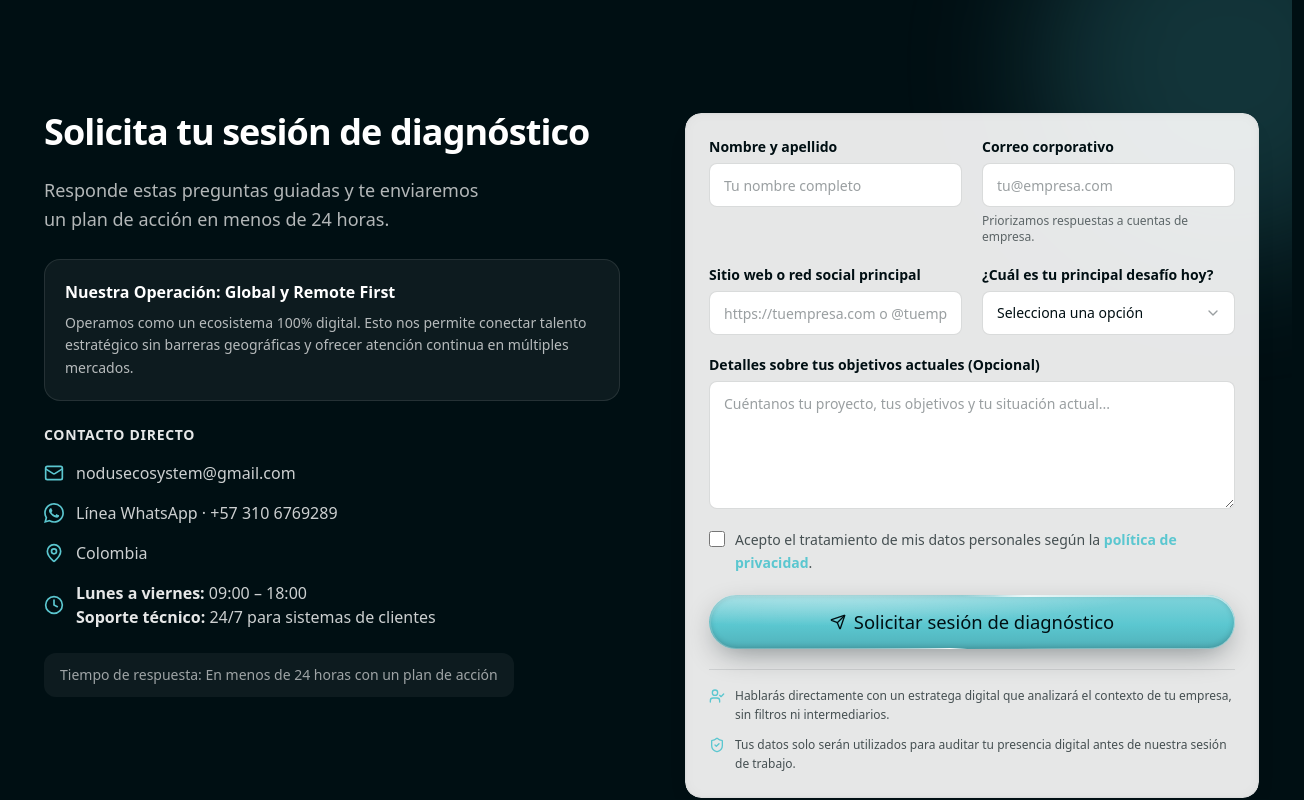
Test: ContactForm › sends the form through EmailJS and shows the success state
Step 1. Type "Ana Pérez" into the field labelled "Nombre y apellido" → (836, 185), box top-left (709, 163), bottom-right (962, 207)
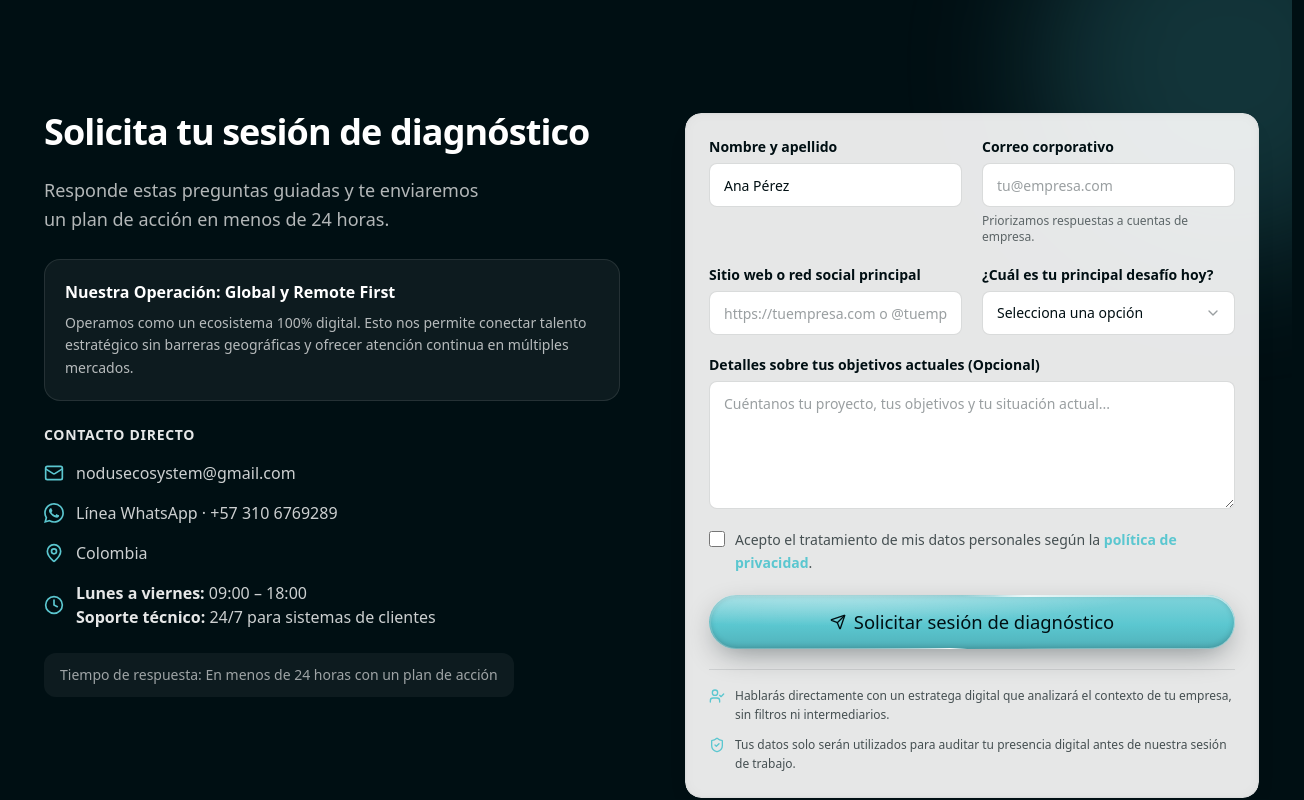
Step 2. Type "ana@example.com" into the field labelled "Correo corporativo" → (1108, 185), box top-left (982, 163), bottom-right (1235, 207)
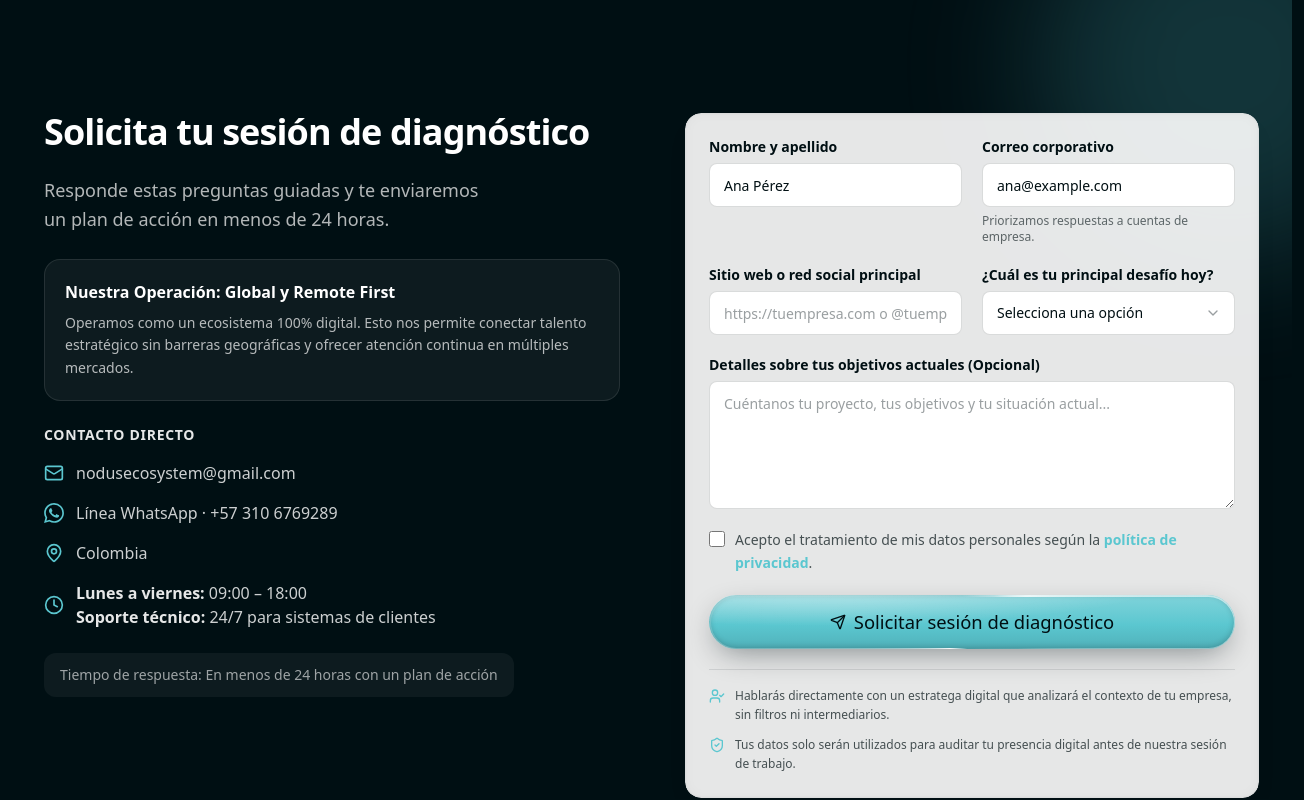
Step 3. Click the checkbox → (717, 539), box top-left (709, 531), bottom-right (725, 547)
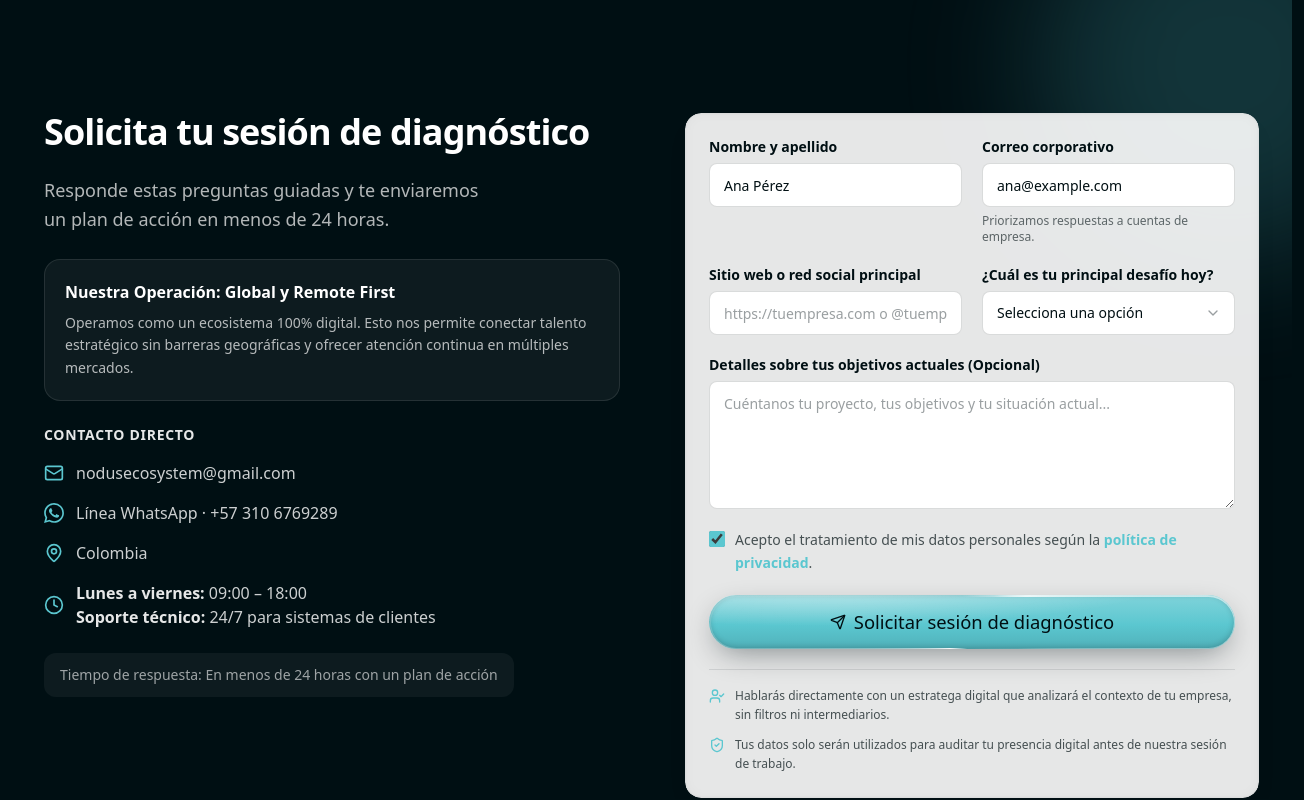
Step 4. Click the button "Solicitar sesión de diagnóstico" → (972, 622), box top-left (709, 594), bottom-right (1235, 649)
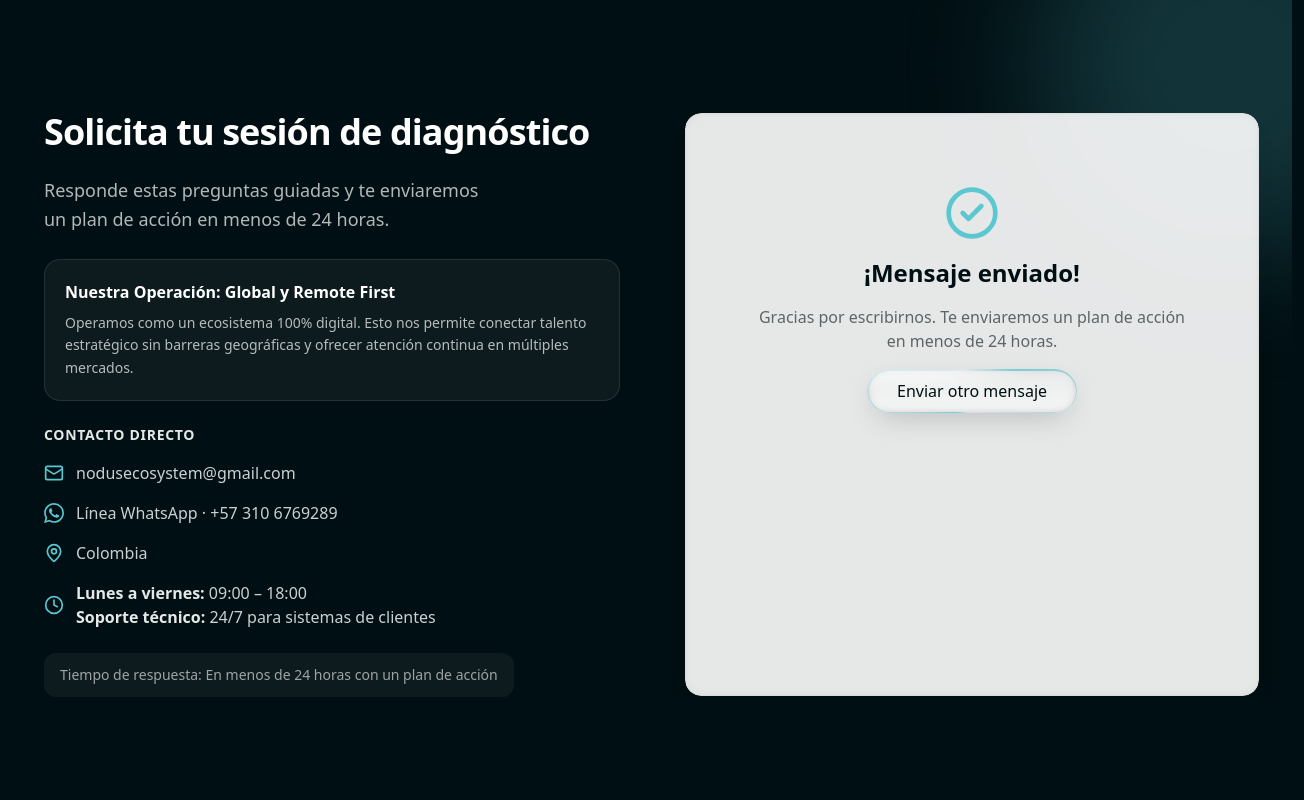
Result: the heading "¡Mensaje enviado!" is shown at top-left (864, 257), bottom-right (1080, 289)
